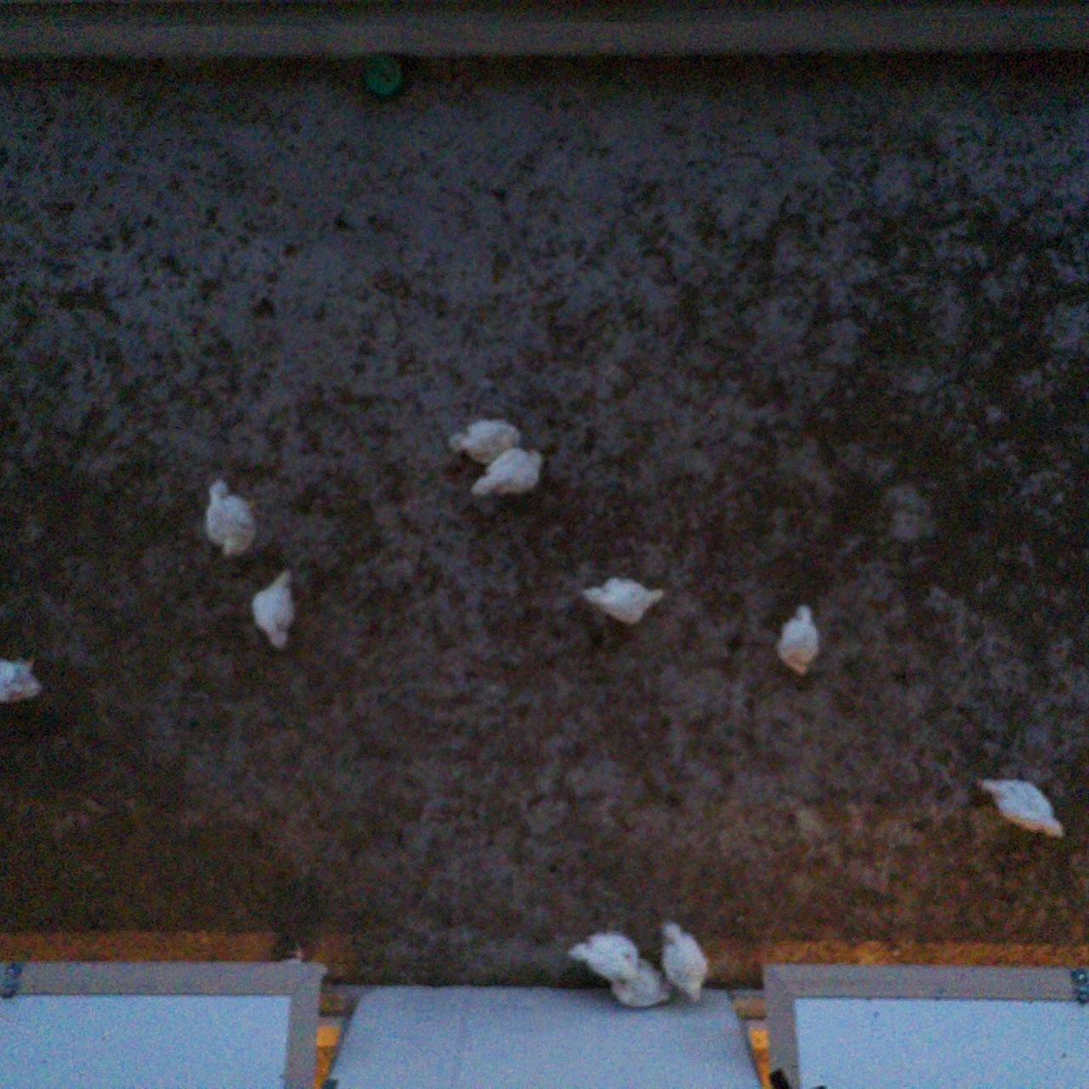chicken: (972, 772, 1070, 841), (195, 474, 263, 560), (576, 571, 673, 629), (655, 919, 716, 1011), (247, 562, 308, 654), (559, 924, 645, 984), (770, 602, 827, 678), (607, 951, 673, 1016), (449, 410, 526, 465), (470, 444, 550, 496), (0, 653, 51, 703)
